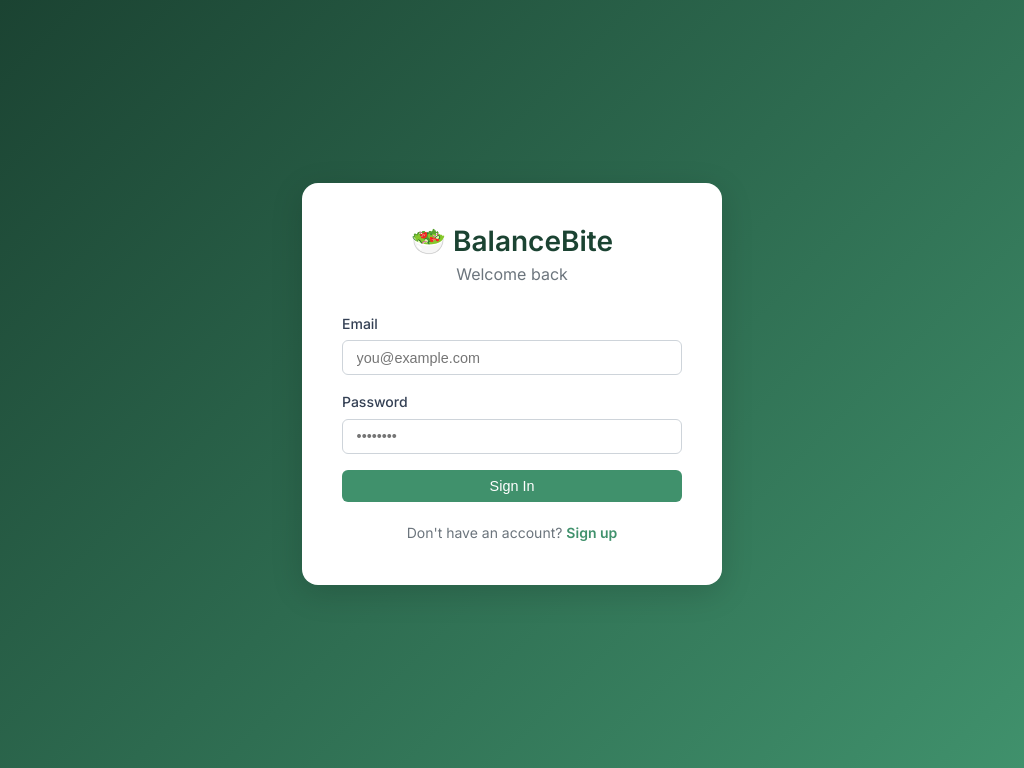
it: Login page › shows an error for too many failed attempts
Type "user@test.com" into the field labelled "Email" at (512,358), box left=342, top=340, right=682, bottom=375
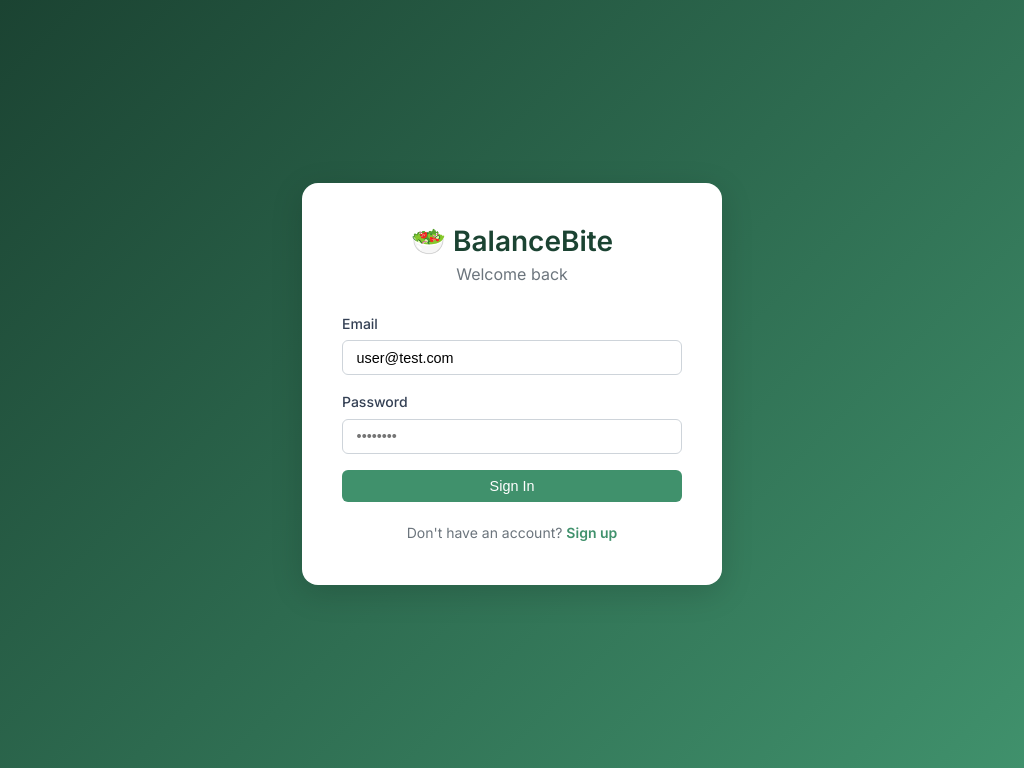
Type "pass" into the password field labelled "Password" at (512,436), box left=342, top=419, right=682, bottom=454
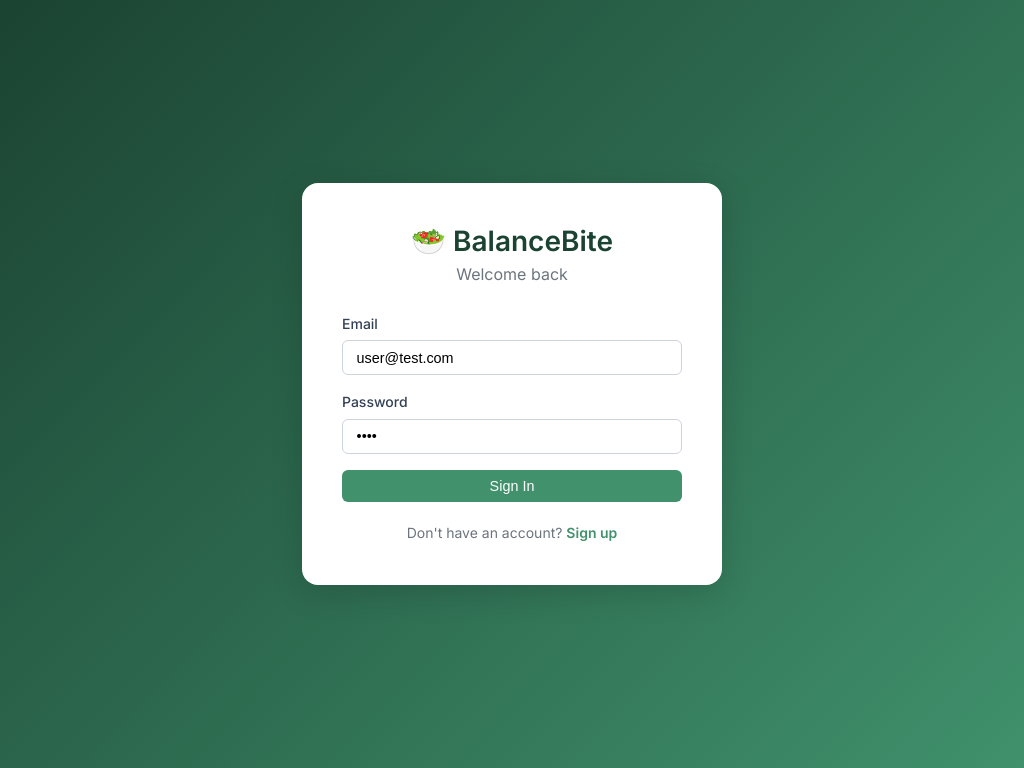
Click the button "Sign In" at (512,486), box left=342, top=470, right=682, bottom=502
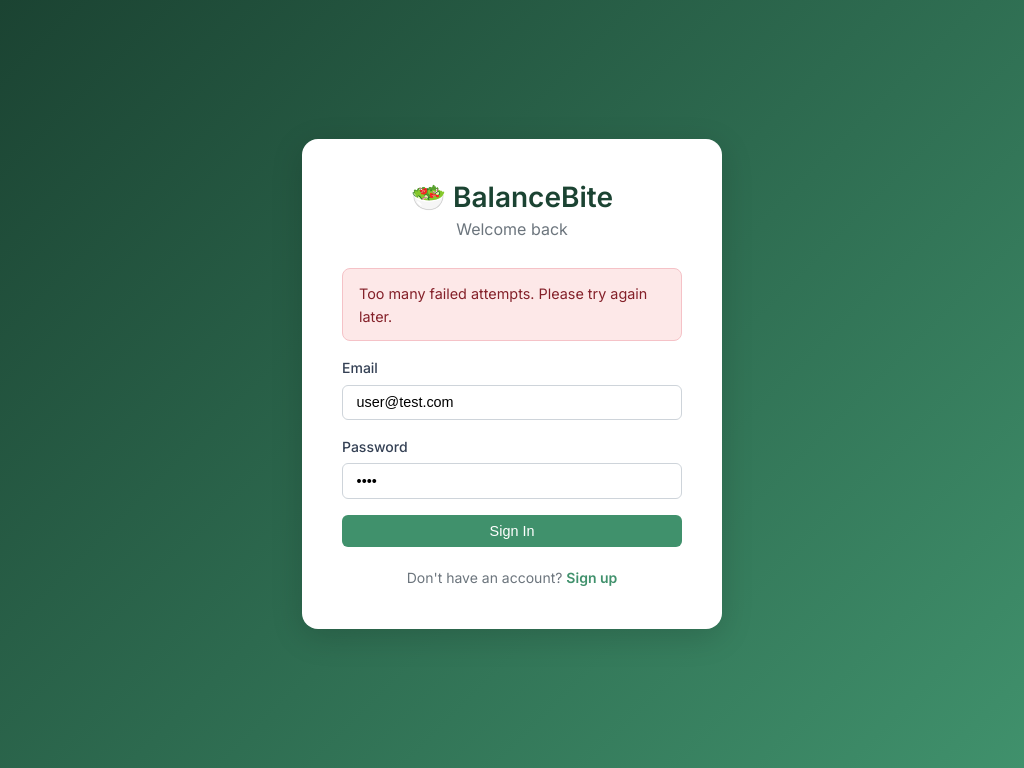
Expected: the message shows "Too many failed attempts", left=359, top=285, right=647, bottom=325
